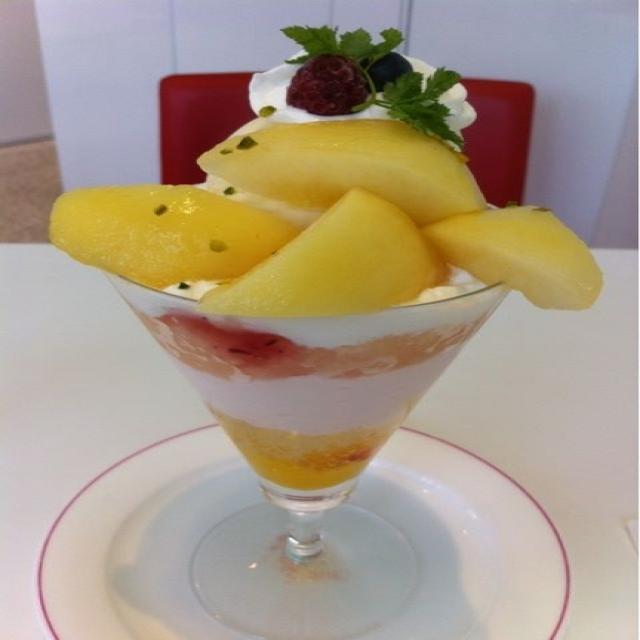蛋糕甜品: (24, 27, 612, 629)
